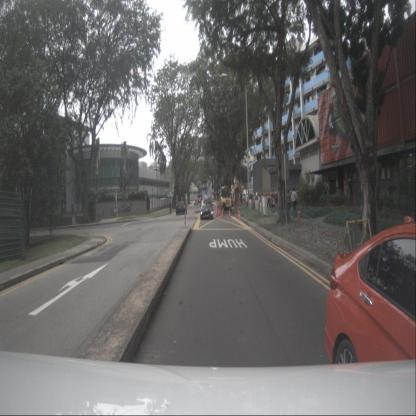cone: (237, 210, 241, 221), (220, 209, 224, 219), (228, 207, 231, 219), (217, 208, 220, 217)
